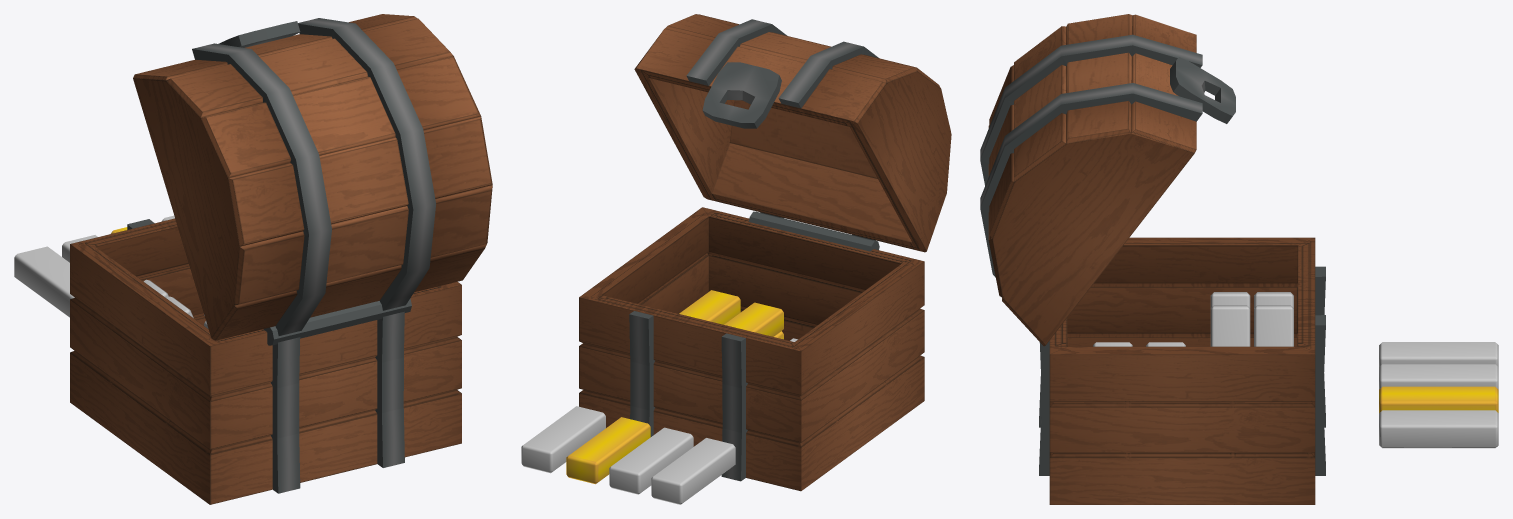
The model's file is StardewChest_Filled.fbx.
3 renders of one model, left to right at view 1: azimuth 30°, elevation 25°; view 2: azimuth 150°, elevation 25°; view 3: azimuth 270°, elevation 25°, orthographic. The views are drawn at different scales.
Visible parts, largest first — view 1: Lid, Base, ShowcaseBar4; view 2: Base, Lid, ShowcaseBar4, ShowcaseBar1, ShowcaseBar2, ShowcaseBar3, Gold_Bars; view 3: Base, Lid, ShowcaseBar1, Copper_Bars, ShowcaseBar2, ShowcaseBar3, ShowcaseBar4.
Part boxes in pixels (x1=…): Lid: x1=133, y1=14, x2=492, y2=340; Base: x1=70, y1=218, x2=461, y2=504; ShowcaseBar4: x1=14, y1=246, x2=74, y2=317; Base: x1=579, y1=207, x2=924, y2=491; Lid: x1=634, y1=14, x2=951, y2=252; ShowcaseBar4: x1=651, y1=438, x2=735, y2=504; ShowcaseBar1: x1=521, y1=406, x2=605, y2=473; ShowcaseBar2: x1=566, y1=417, x2=650, y2=484; ShowcaseBar3: x1=609, y1=427, x2=693, y2=494; Gold_Bars: x1=679, y1=290, x2=783, y2=339; Base: x1=1039, y1=237, x2=1325, y2=504; Lid: x1=980, y1=14, x2=1235, y2=346; ShowcaseBar1: x1=1379, y1=410, x2=1498, y2=448; Copper_Bars: x1=1210, y1=292, x2=1293, y2=346; ShowcaseBar2: x1=1379, y1=386, x2=1498, y2=412; ShowcaseBar3: x1=1379, y1=364, x2=1498, y2=389; ShowcaseBar4: x1=1379, y1=342, x2=1498, y2=366.
Size of the model in its own units: 209 by 318 by 390.
